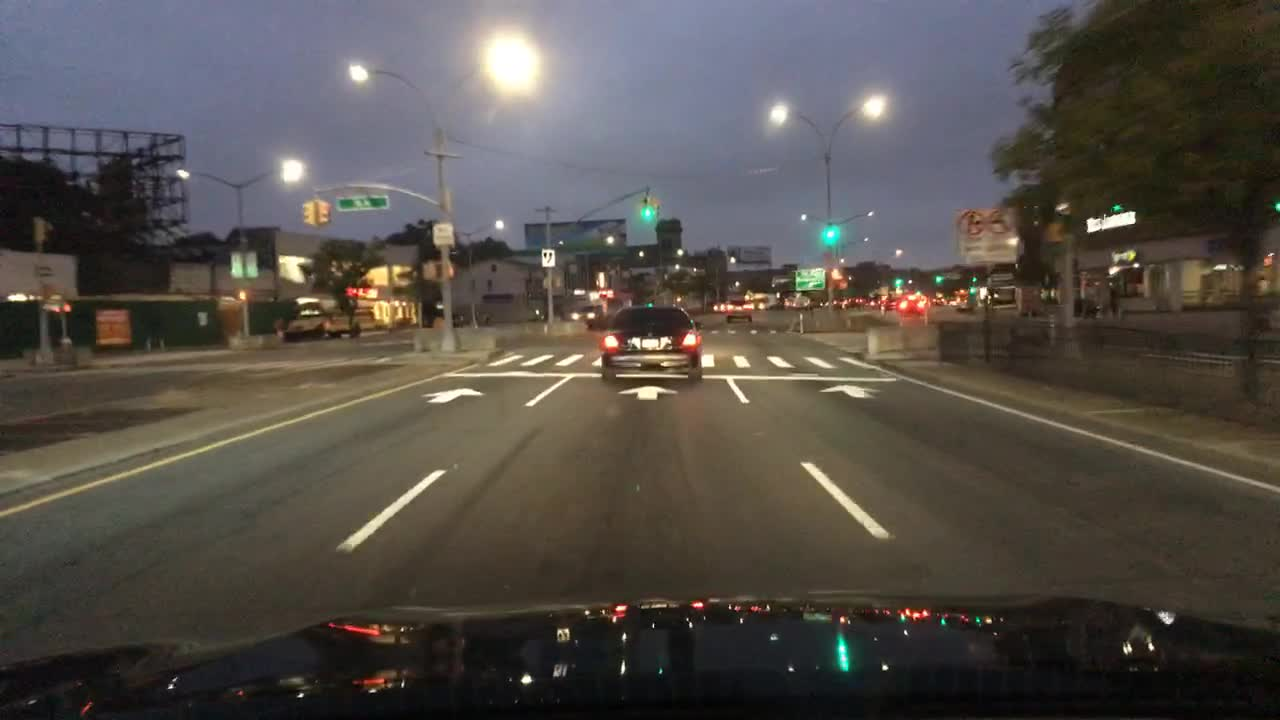car: (600, 300, 705, 382), (280, 296, 360, 345), (417, 302, 465, 327), (895, 295, 931, 317), (718, 300, 752, 323), (744, 288, 779, 310), (567, 302, 597, 319), (953, 293, 977, 314), (989, 287, 1016, 305), (783, 296, 811, 309), (882, 297, 897, 314), (867, 293, 882, 309), (832, 292, 847, 307)
person: (1078, 275, 1100, 320), (1105, 275, 1120, 320)
traffic light: (314, 198, 332, 225), (820, 220, 837, 244), (300, 200, 316, 224), (638, 197, 652, 223), (420, 260, 438, 280), (649, 194, 660, 224), (934, 271, 944, 285), (894, 274, 903, 287), (969, 275, 979, 285), (963, 287, 975, 295)
traffic sign: (957, 206, 1017, 268), (226, 249, 258, 281), (333, 193, 389, 211), (790, 265, 825, 291), (431, 221, 451, 246), (542, 249, 555, 266)
